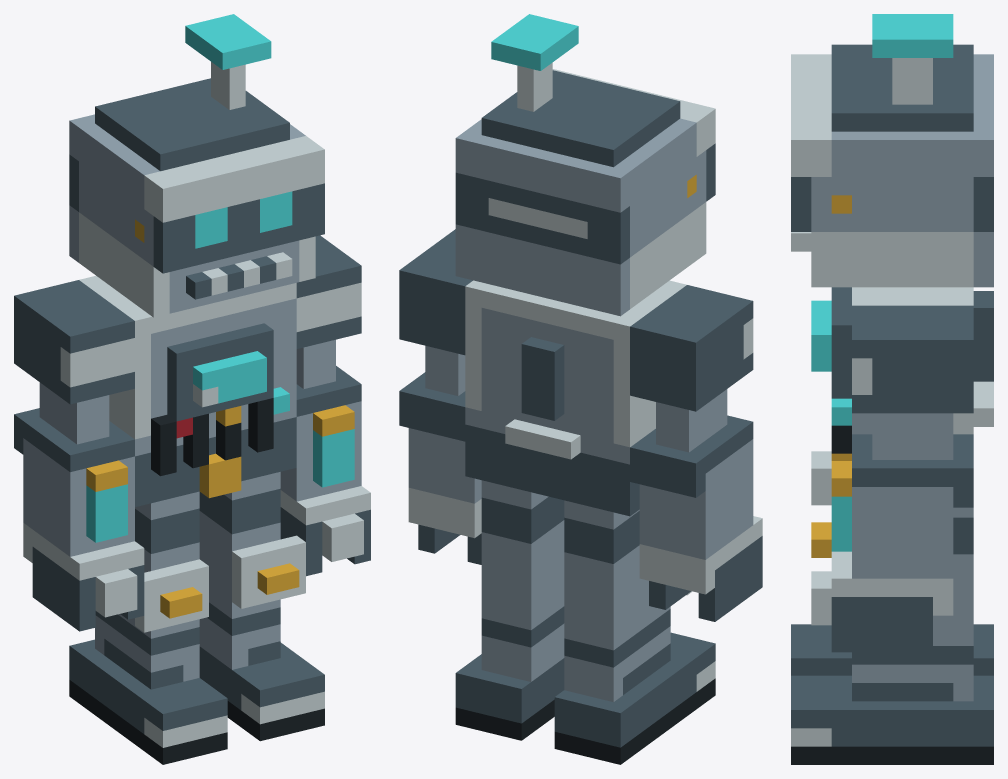
The model's file is robot.glb.
3 renders of one model, left to right at view 1: azimuth 30°, elevation 25°; view 2: azimuth 150°, elevation 25°; view 3: azimuth 270°, elevation 25°, orthographic. The views are drawn at different scales.
Parts seen in each view (by area): view 1: head, arm_left, torso, leg_left, leg_right, arm_right; view 2: head, arm_left, torso, leg_left, leg_right, arm_right; view 3: head, arm_right, leg_right, torso, leg_left, arm_left.
Boxes of the visible parts, x1,y1,x2,y2 form: head: (69, 14, 324, 317); arm_left: (14, 280, 144, 631); torso: (79, 275, 296, 506); leg_left: (69, 491, 227, 764); leg_right: (199, 472, 324, 741); arm_right: (280, 235, 370, 576); head: (455, 14, 715, 316); arm_left: (630, 285, 762, 621); torso: (465, 280, 686, 516); leg_left: (554, 500, 715, 764); leg_right: (455, 480, 564, 740); arm_right: (399, 229, 481, 564); head: (791, 14, 993, 287); arm_right: (811, 305, 973, 652); leg_right: (791, 507, 993, 764); torso: (811, 287, 993, 507); leg_left: (791, 522, 993, 675); arm_left: (811, 451, 831, 505).
Size of the model in its own units: 0.9 by 1.95 by 0.5.
1 material, 1 textured.
